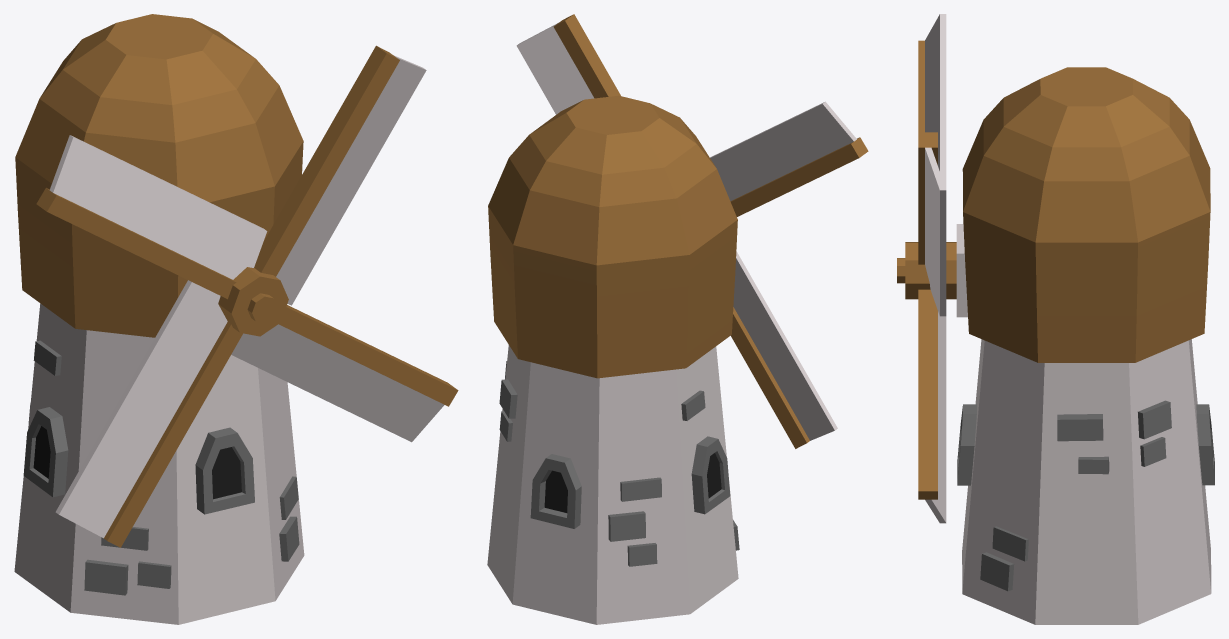
The model's file is Windmill.fbx.
3 renders of one model, left to right at view 1: azimuth 30°, elevation 25°; view 2: azimuth 150°, elevation 25°; view 3: azimuth 270°, elevation 25°, orthographic. The views are drawn at different scales.
Parts seen in each view (by area): view 1: windmill, wings; view 2: windmill, wings; view 3: windmill, wings.
Part boxes in pixels (<box>): windmill: <box>14,14,304,624</box>; wings: <box>36,45,458,547</box>; windmill: <box>487,95,739,624</box>; wings: <box>516,14,868,448</box>; windmill: <box>956,67,1214,624</box>; wings: <box>897,14,956,523</box>.
Bounding box in the file's own units: 263 × 332 × 191.
